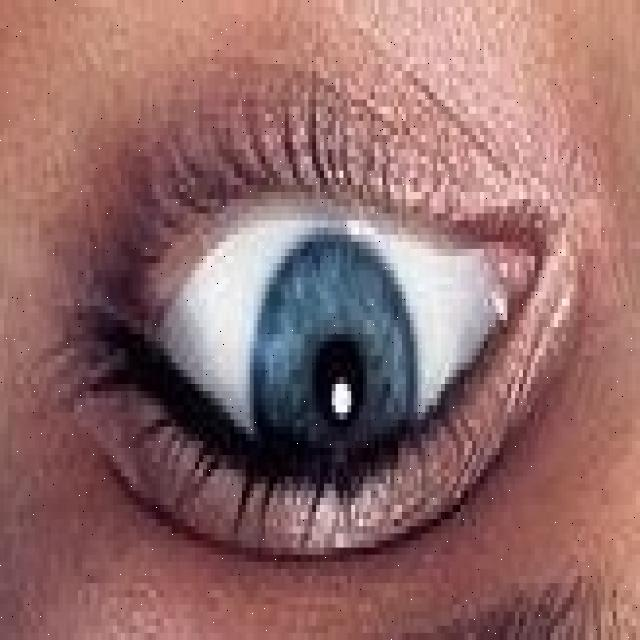Normal: (250, 236, 414, 530)
